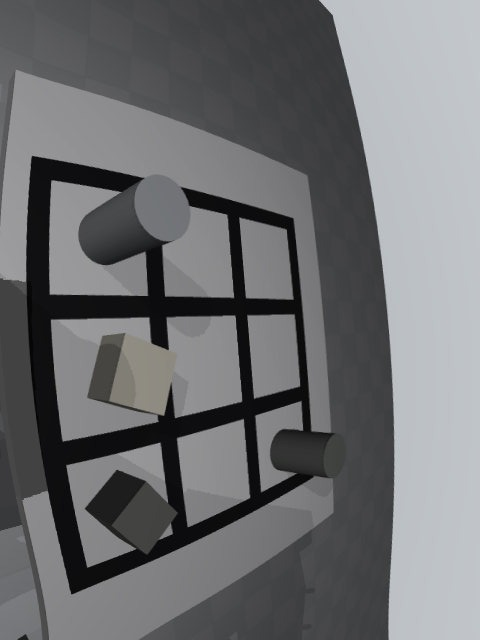can: (78, 174, 190, 265)
cube: (84, 470, 178, 554)
cylinder: (270, 429, 346, 478)
foam: (87, 333, 178, 416)
